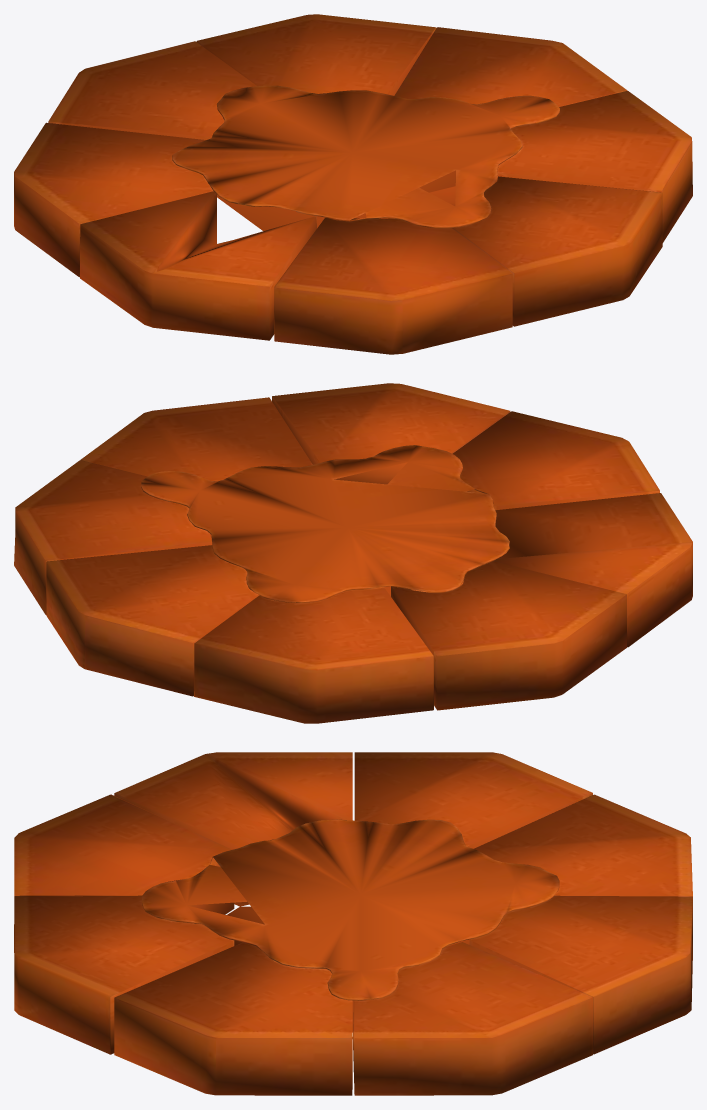
The model's file is floor-hills.glb.
The picture shows the model from 3 angles, top to bottom: view 1: azimuth 30°, elevation 25°; view 2: azimuth 150°, elevation 25°; view 3: azimuth 270°, elevation 25°; orthographic projection. The views are drawn at different scales.
Size of the model in its own units: 0.958 by 0.0937 by 0.9609.
Materials: 1 (1 with a texture image).
